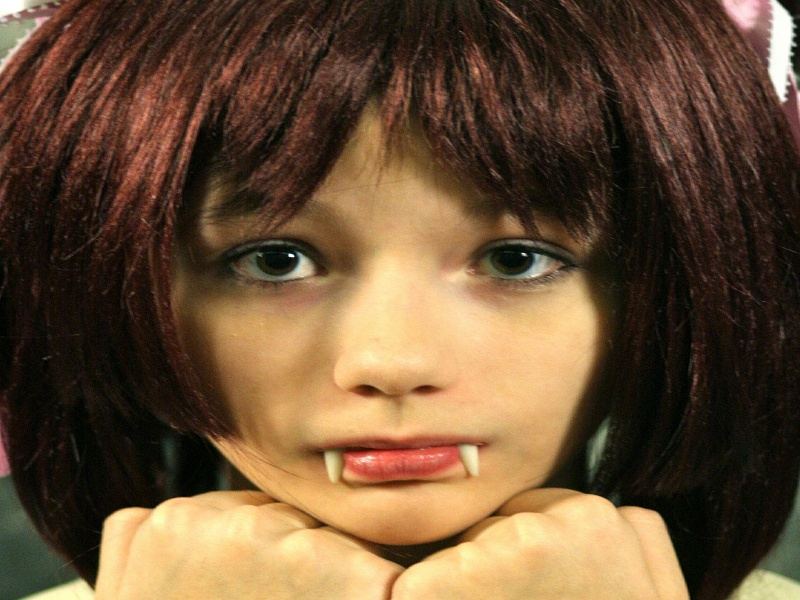face: (120, 83, 689, 547)
